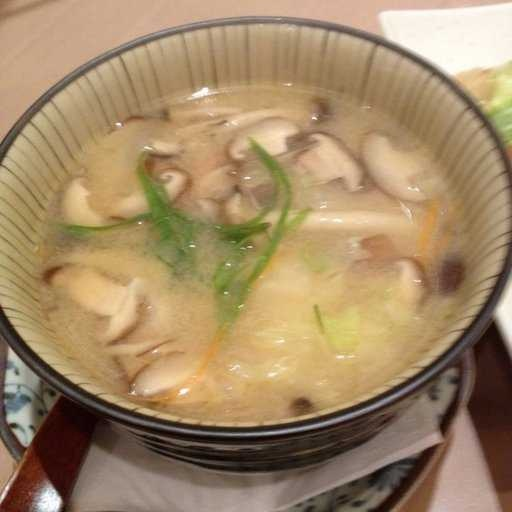soup: (29, 77, 479, 403)
